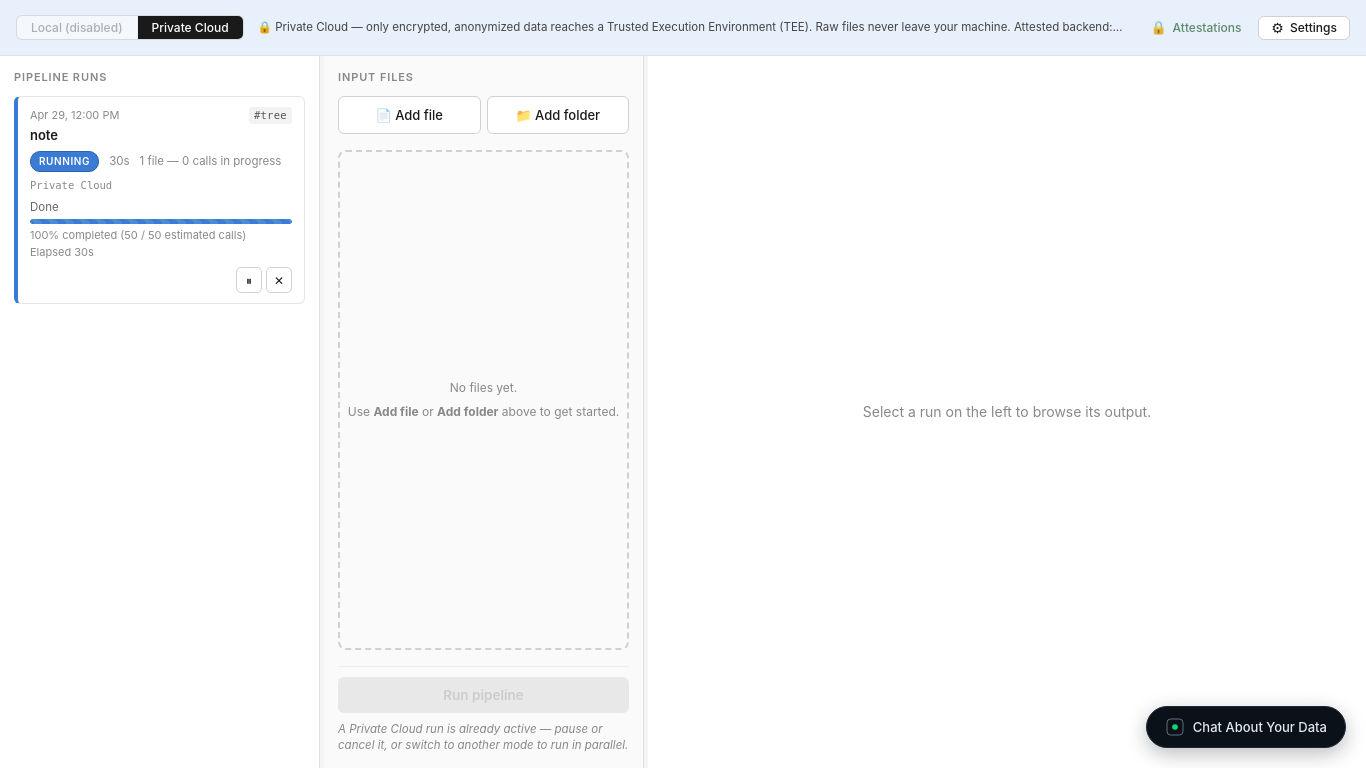
Test: App — run tree default-open + auto-open new dirs › auto-opens 4-insights.md on a refresh — insights expand without a click as the stage lands
Expected: the text "Pipeline runs" is shown, [14, 70, 107, 86]
Click the list item "note" at (160, 200), box [14, 96, 305, 304]
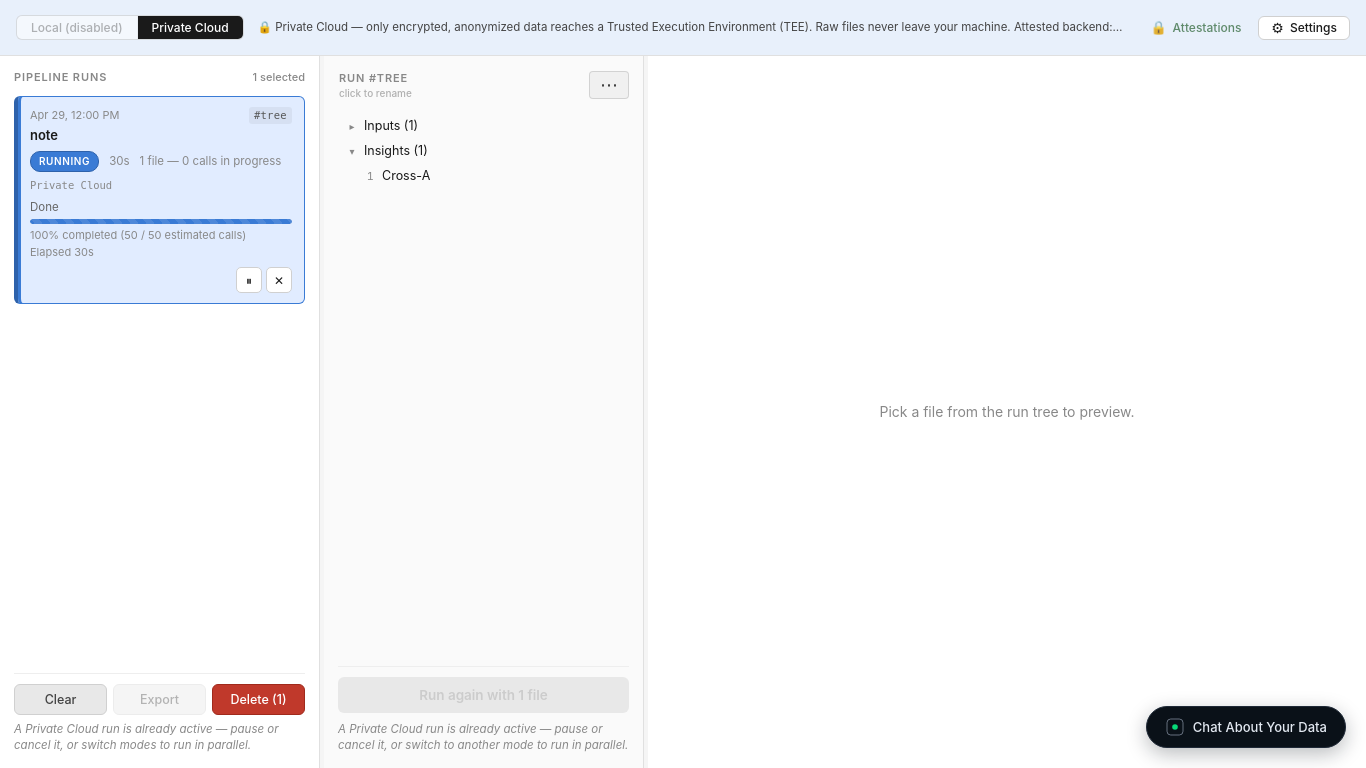
Now the text "Inputs (1)" is shown, box [364, 118, 418, 133]
Now the text "Cross-A" is shown, box [382, 168, 430, 182]
